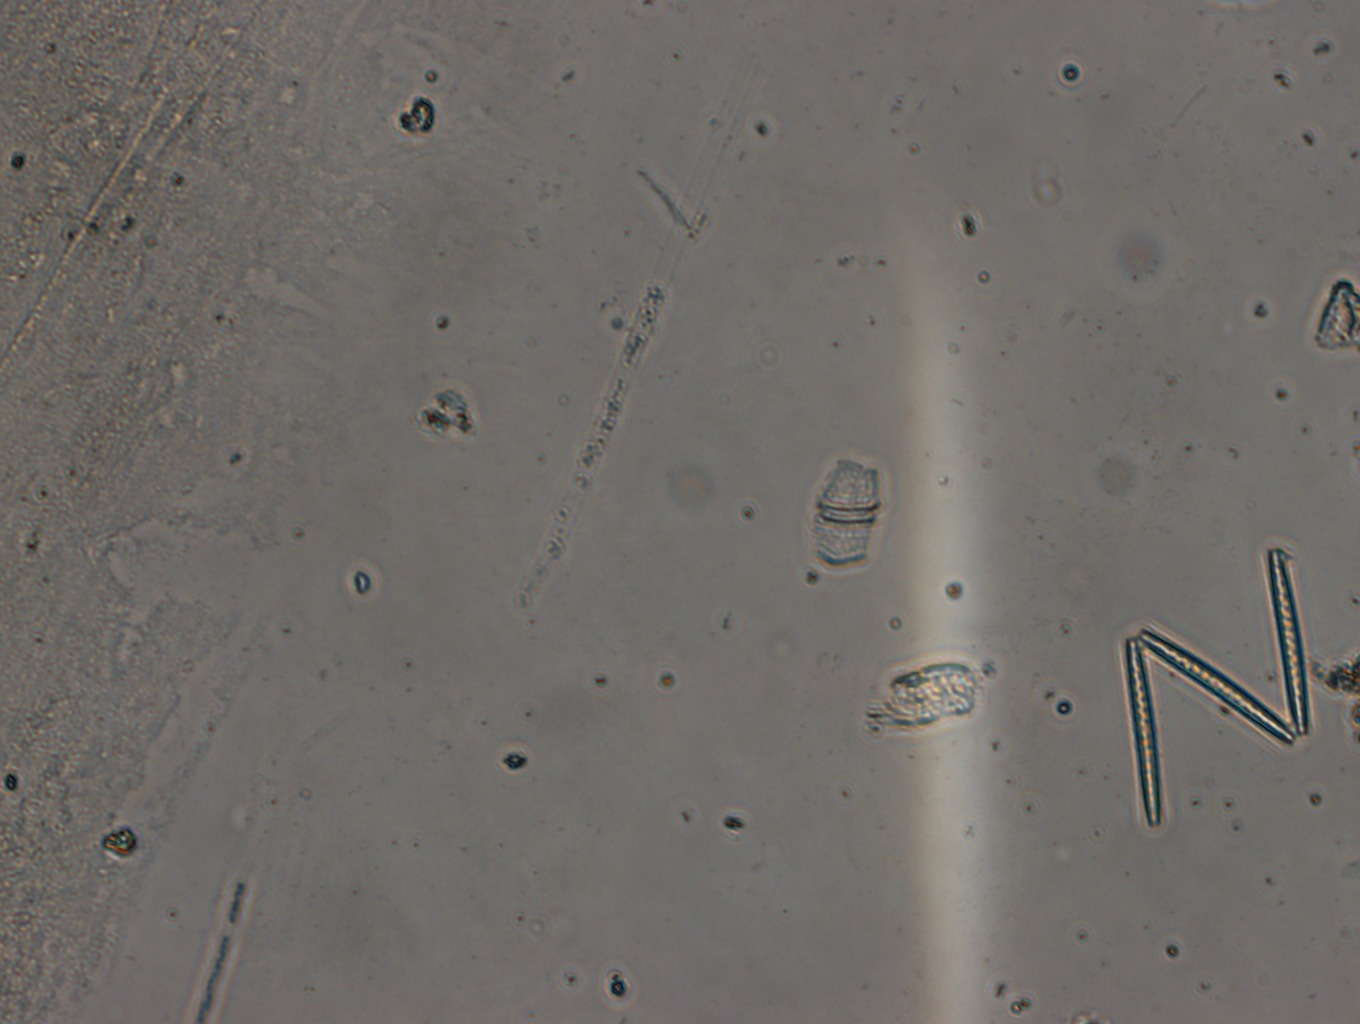thalassionema nitzschioides: (1113, 542, 1318, 829)
